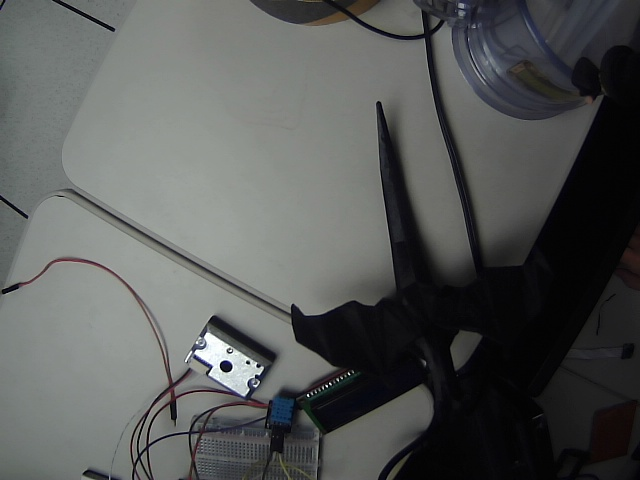charizard: (266, 86, 606, 460)
